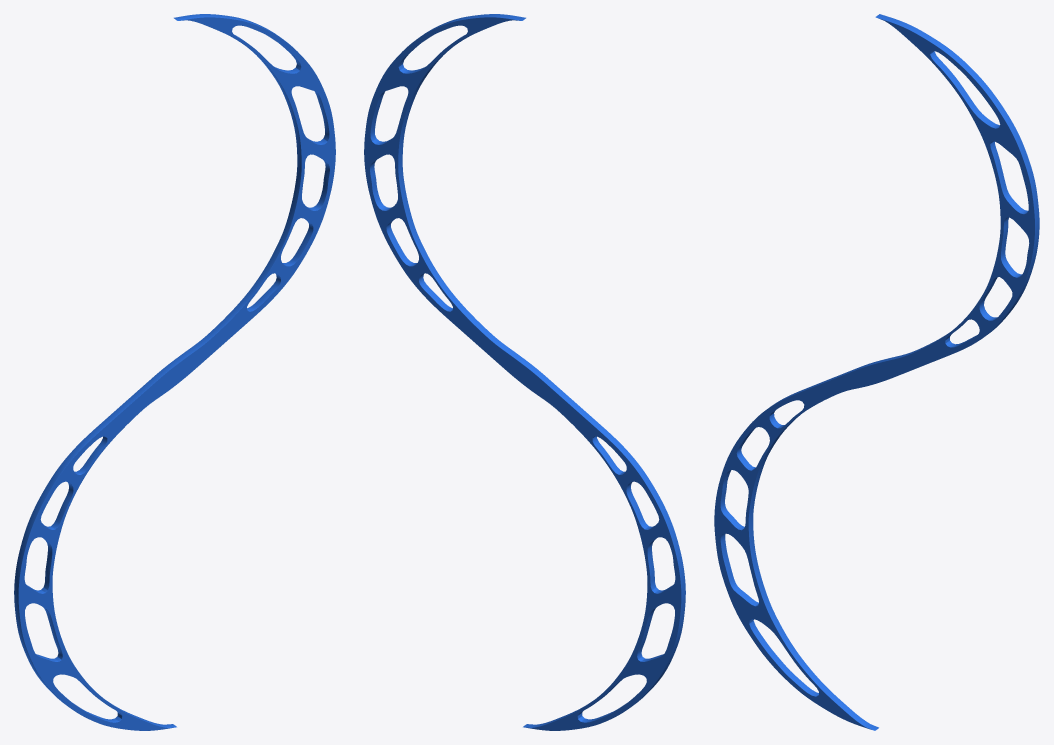
The model's file is buugeng.glb.
The picture shows the model from 3 angles, left to right: view 1: azimuth 30°, elevation 25°; view 2: azimuth 150°, elevation 25°; view 3: azimuth 330°, elevation 25°; orthographic projection.
Visible parts, largest first — view 1: TKA_Buugeng_PerforatedBody_Recolor; view 2: TKA_Buugeng_PerforatedBody_Recolor; view 3: TKA_Buugeng_PerforatedBody_Recolor.
Boxes of the visible parts, x1=… form: TKA_Buugeng_PerforatedBody_Recolor: x1=14, y1=14, x2=335, y2=730; TKA_Buugeng_PerforatedBody_Recolor: x1=364, y1=14, x2=685, y2=730; TKA_Buugeng_PerforatedBody_Recolor: x1=714, y1=14, x2=1039, y2=730.
Bounding box in the file's own units: 0.3904 × 0.83 × 0.0095.
